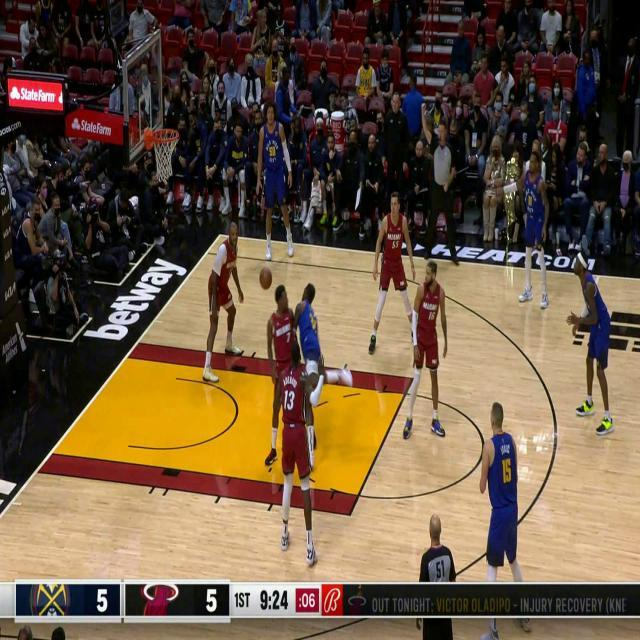rim: (260, 267, 272, 288)
